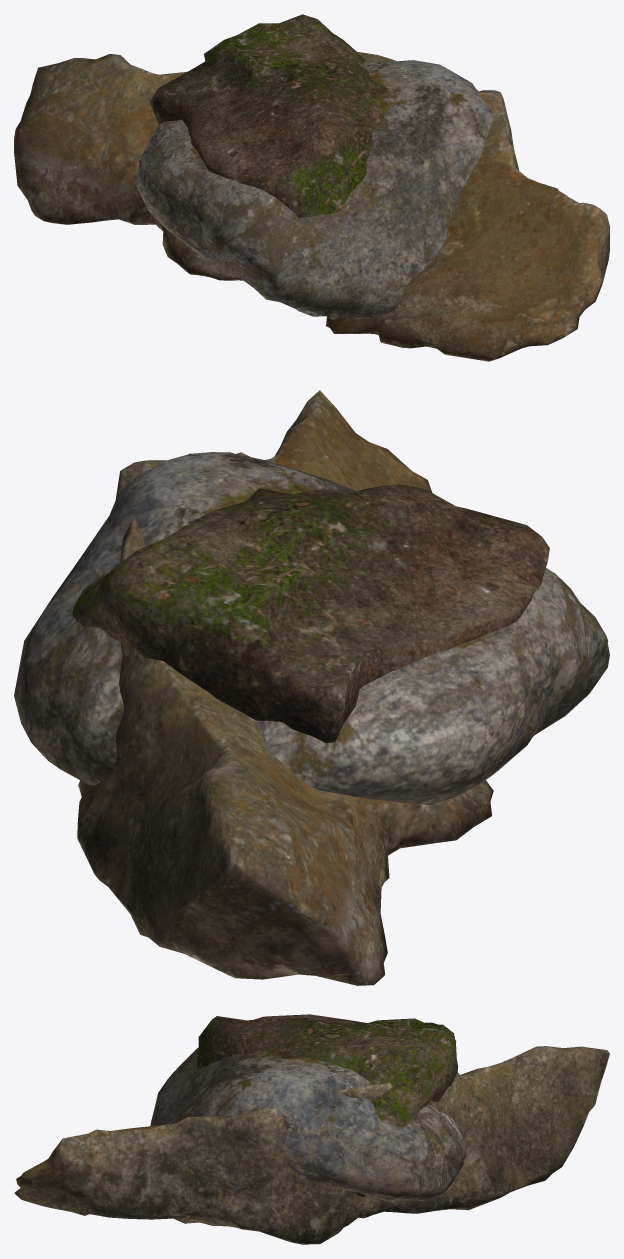
File: tllhcelva_tier_2.gltf
The picture shows the model from 3 angles, top to bottom: view 1: azimuth 30°, elevation 25°; view 2: azimuth 150°, elevation 25°; view 3: azimuth 270°, elevation 25°; orthographic projection. The views are drawn at different scales.
Parts seen in each view (by area): view 1: tllhcelva_LOD0_TIER2_003, tllhcelva_LOD0_TIER2_001, tllhcelva_LOD0_TIER2_002; view 2: tllhcelva_LOD0_TIER2_003, tllhcelva_LOD0_TIER2_002, tllhcelva_LOD0_TIER2_001; view 3: tllhcelva_LOD0_TIER2_003, tllhcelva_LOD0_TIER2_001, tllhcelva_LOD0_TIER2_002.
Boxes of the visible parts, left/top/right/bottom form: tllhcelva_LOD0_TIER2_003: left=14, top=52, right=609, bottom=361; tllhcelva_LOD0_TIER2_001: left=136, top=60, right=493, bottom=320; tllhcelva_LOD0_TIER2_002: left=150, top=14, right=387, bottom=218; tllhcelva_LOD0_TIER2_003: left=77, top=390, right=493, bottom=985; tllhcelva_LOD0_TIER2_002: left=72, top=484, right=549, bottom=742; tllhcelva_LOD0_TIER2_001: left=14, top=452, right=609, bottom=804; tllhcelva_LOD0_TIER2_003: left=14, top=1046, right=609, bottom=1244; tllhcelva_LOD0_TIER2_001: left=150, top=1047, right=466, bottom=1200; tllhcelva_LOD0_TIER2_002: left=196, top=1014, right=458, bottom=1196.
Bounding box in the file's own units: 0.2075 × 0.1171 × 0.3608.
Materials: 1 (1 with a texture image).
